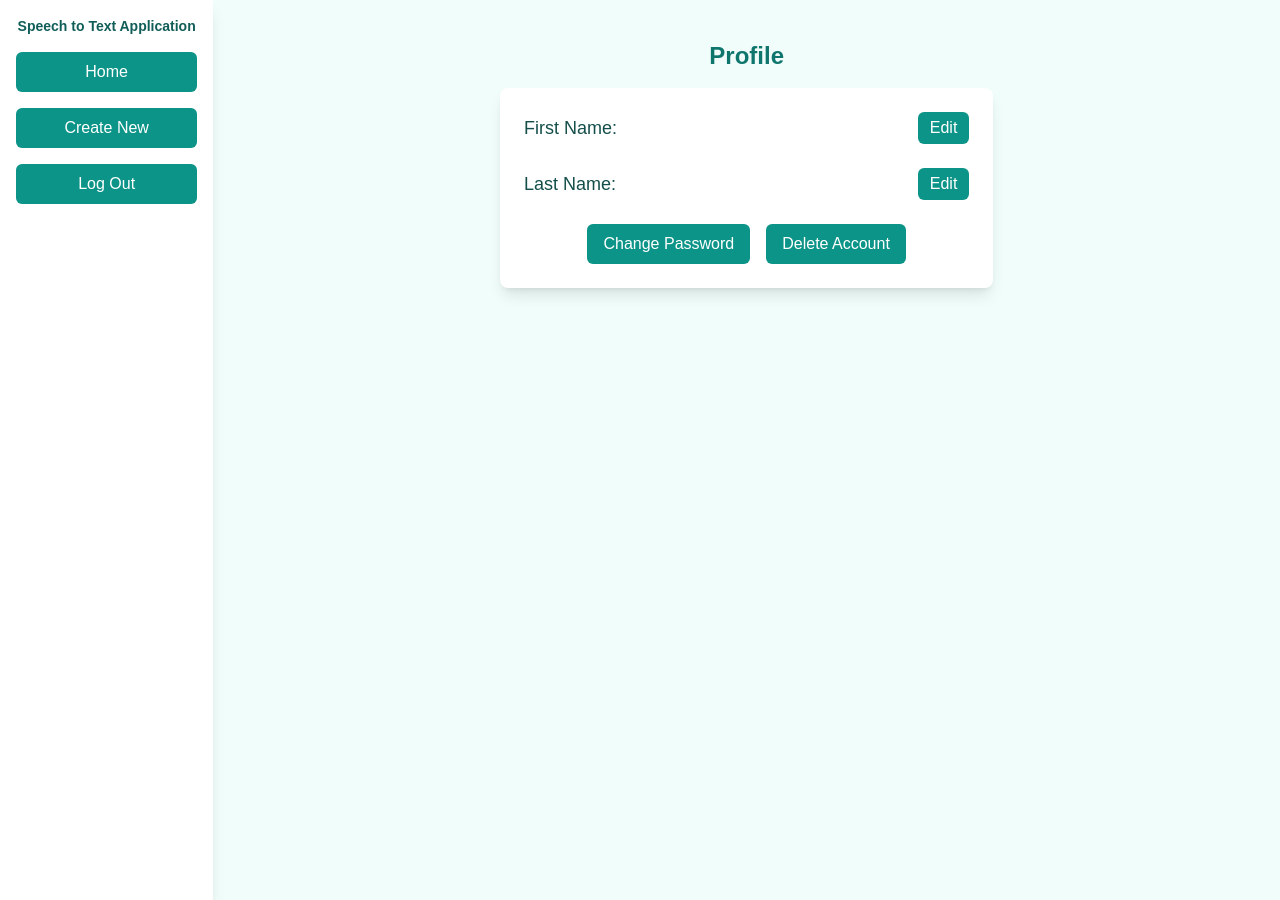
Test case: Profile Component › validates password and shows error messages
Click the button "Change Password": (669, 244) [588, 224, 750, 264]
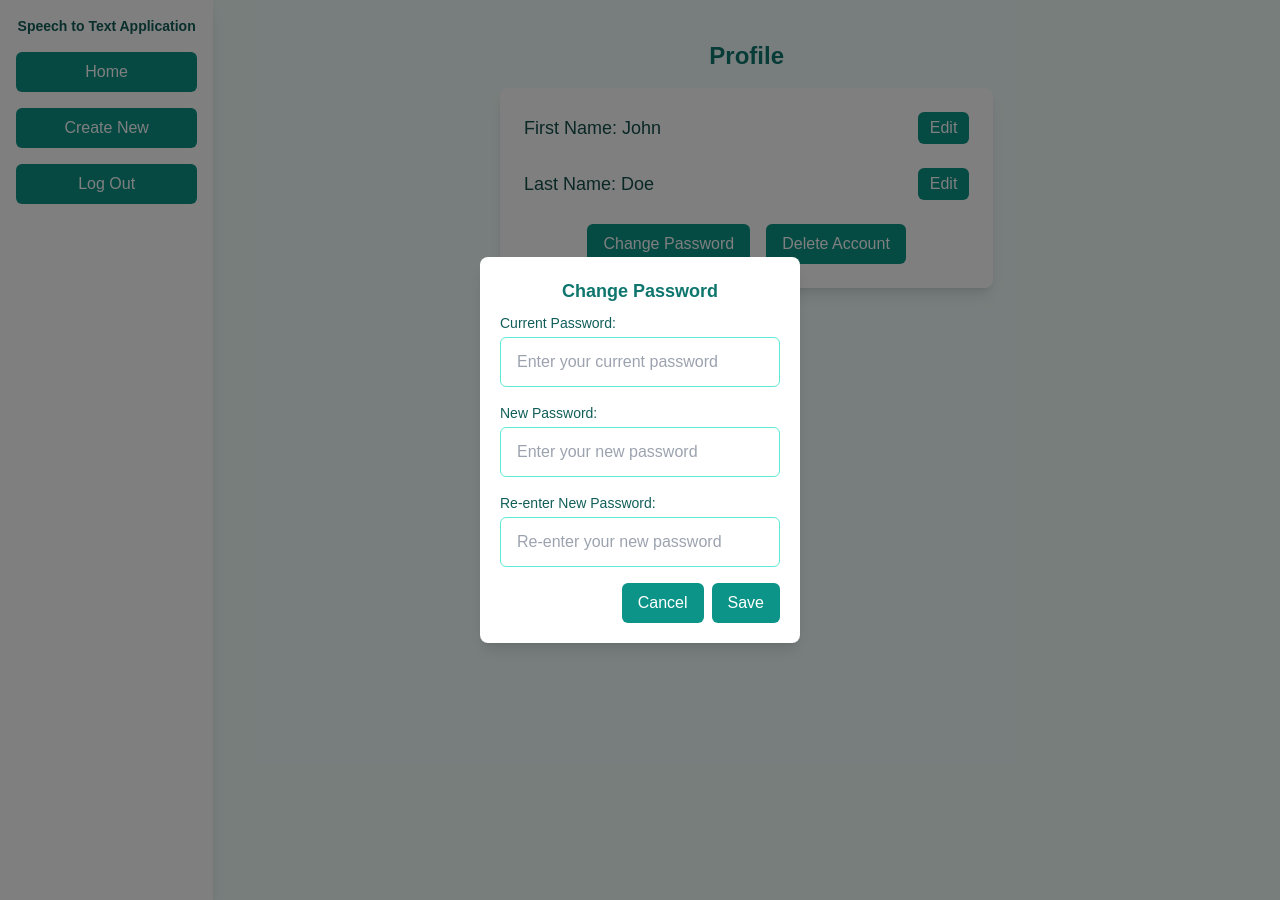
In the password field labelled "New Password:": (640, 452) [500, 427, 780, 477], type "weak"
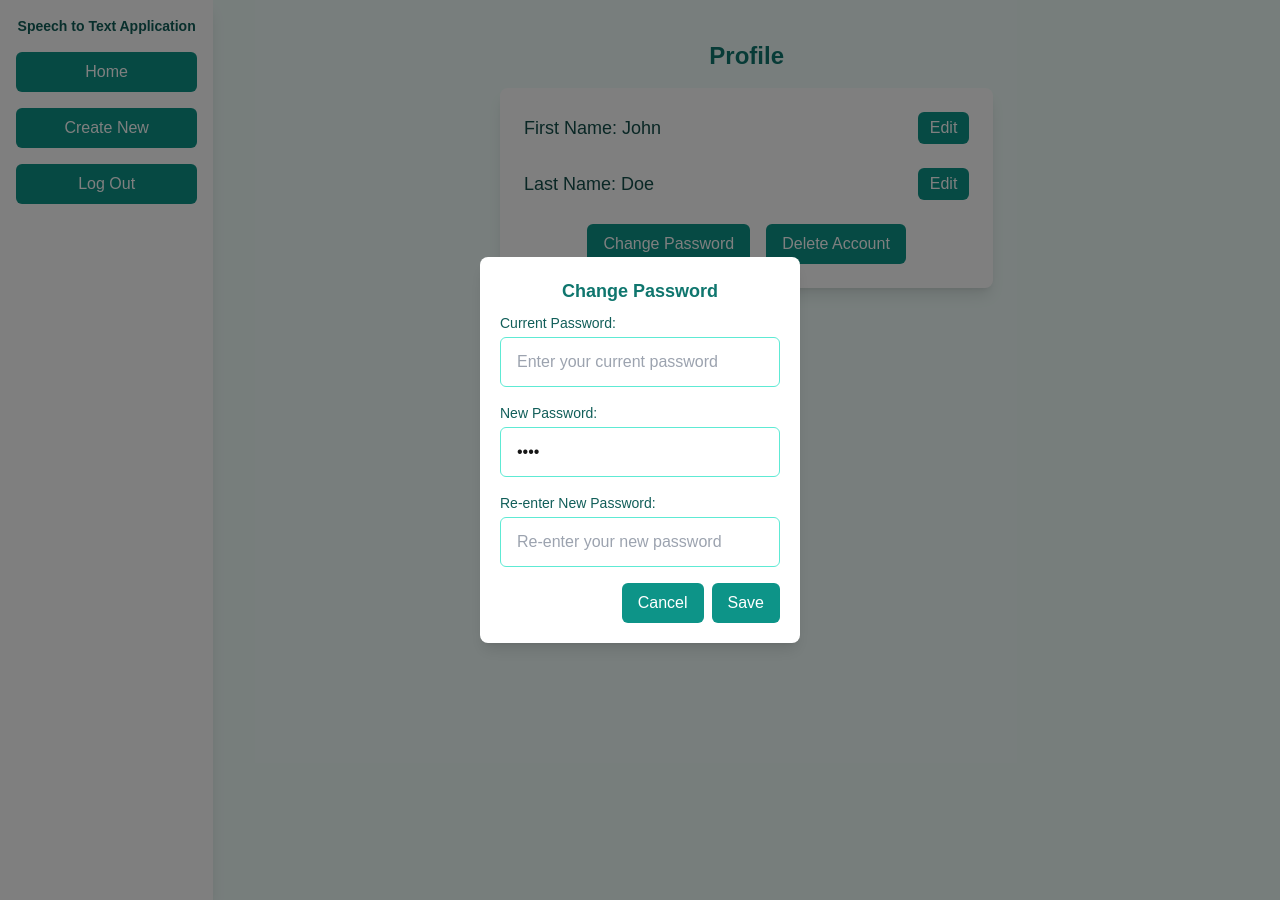
Click the button "Save": (746, 603) [712, 583, 780, 623]
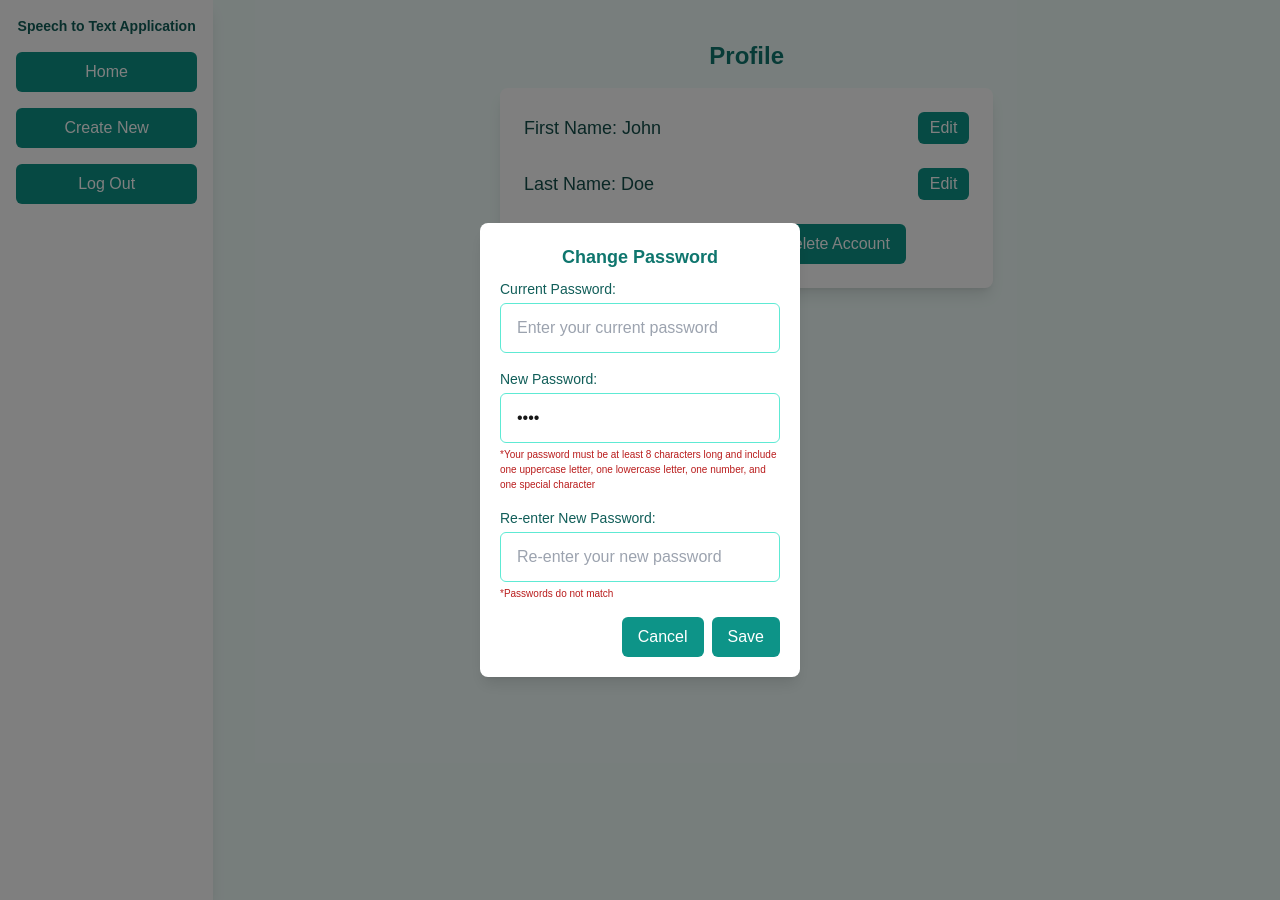
Expected: the text "Your password must be at least 8 characters long" is shown, [500, 449, 776, 490]
